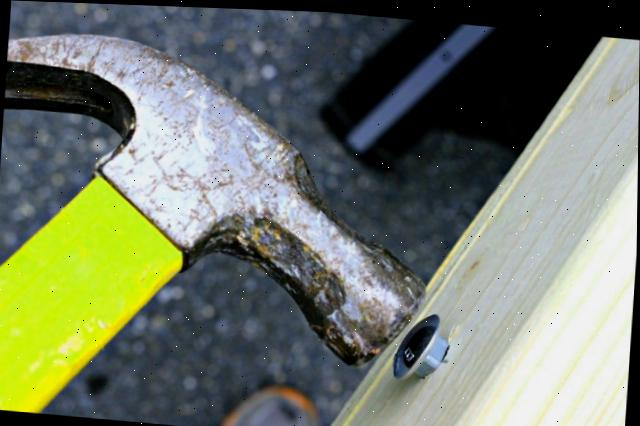hammer: (0, 17, 451, 426)
